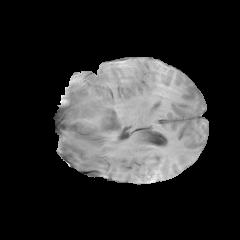glioma: (62, 62, 123, 138)
